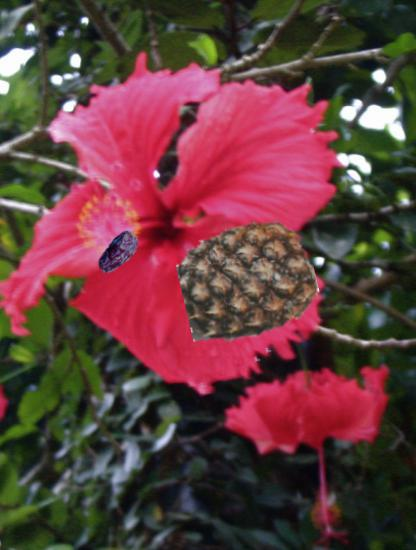Dates: (94, 228, 145, 279)
Pineapple: (181, 213, 315, 347)
